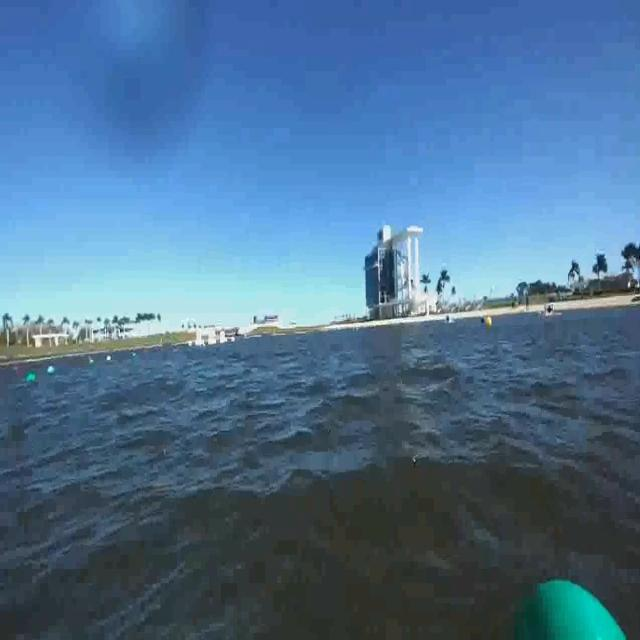green-buoy: (481, 559, 639, 640), (27, 373, 38, 384)
yellow-buoy: (487, 318, 493, 332)
